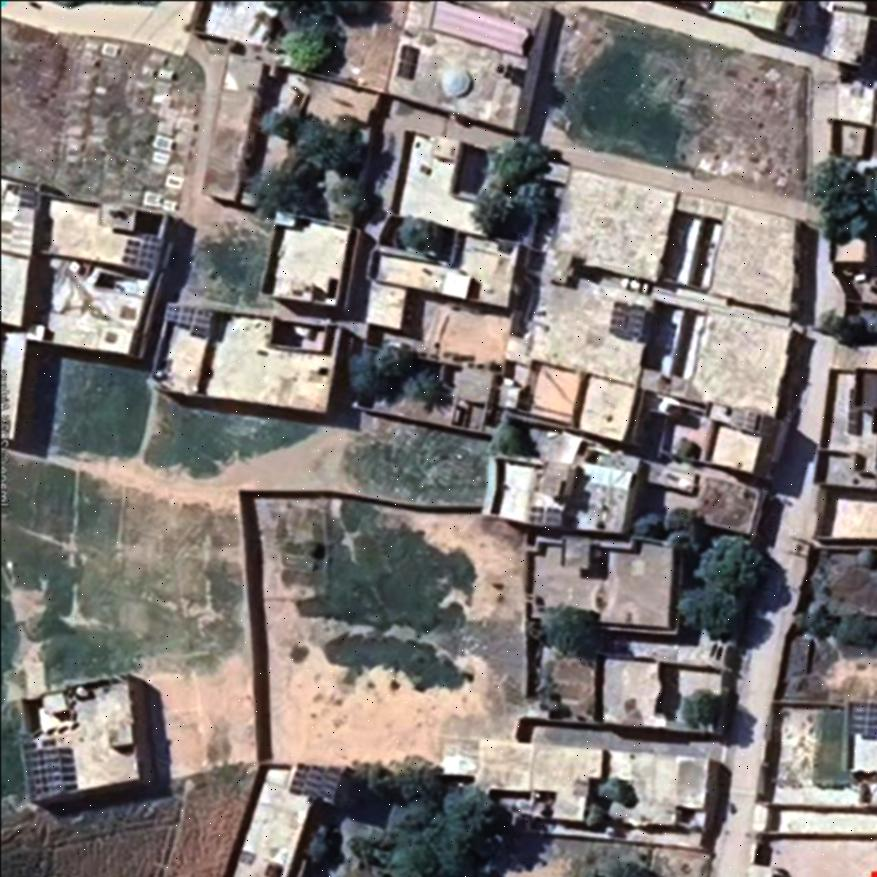Solarpanel: (19, 750, 63, 802), (287, 762, 344, 796), (611, 302, 648, 345), (161, 298, 215, 325), (122, 231, 161, 268), (847, 700, 877, 737)
